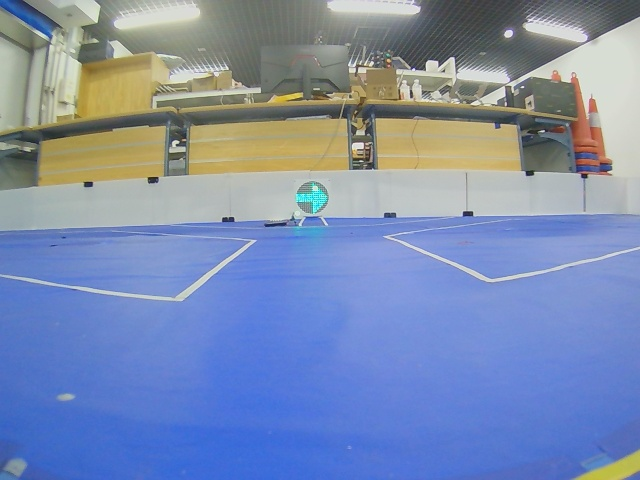right_green: (296, 181, 328, 214)
